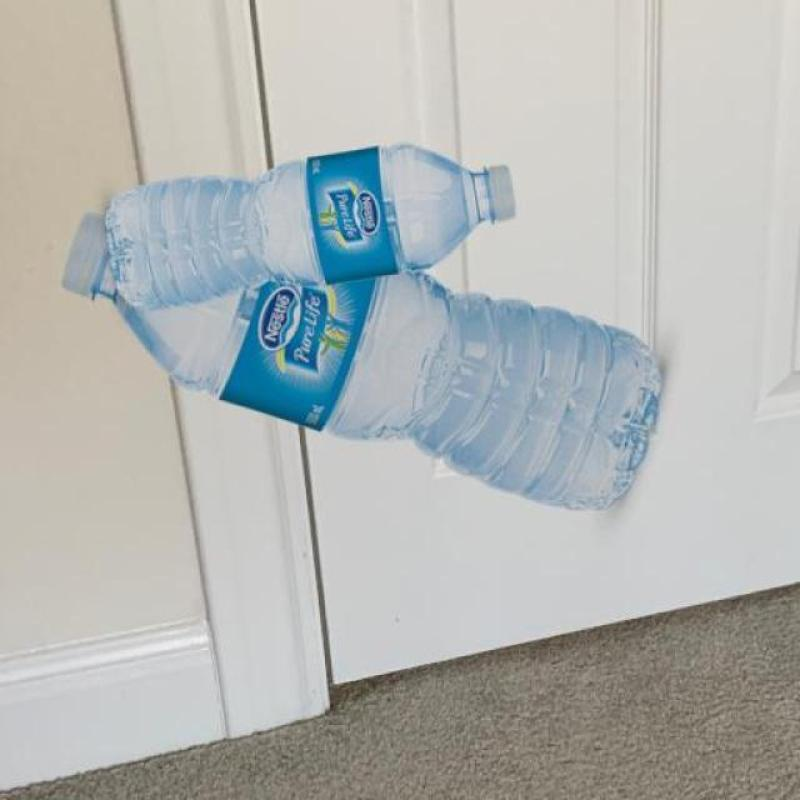botella: (60, 208, 660, 507), (102, 141, 513, 309)
